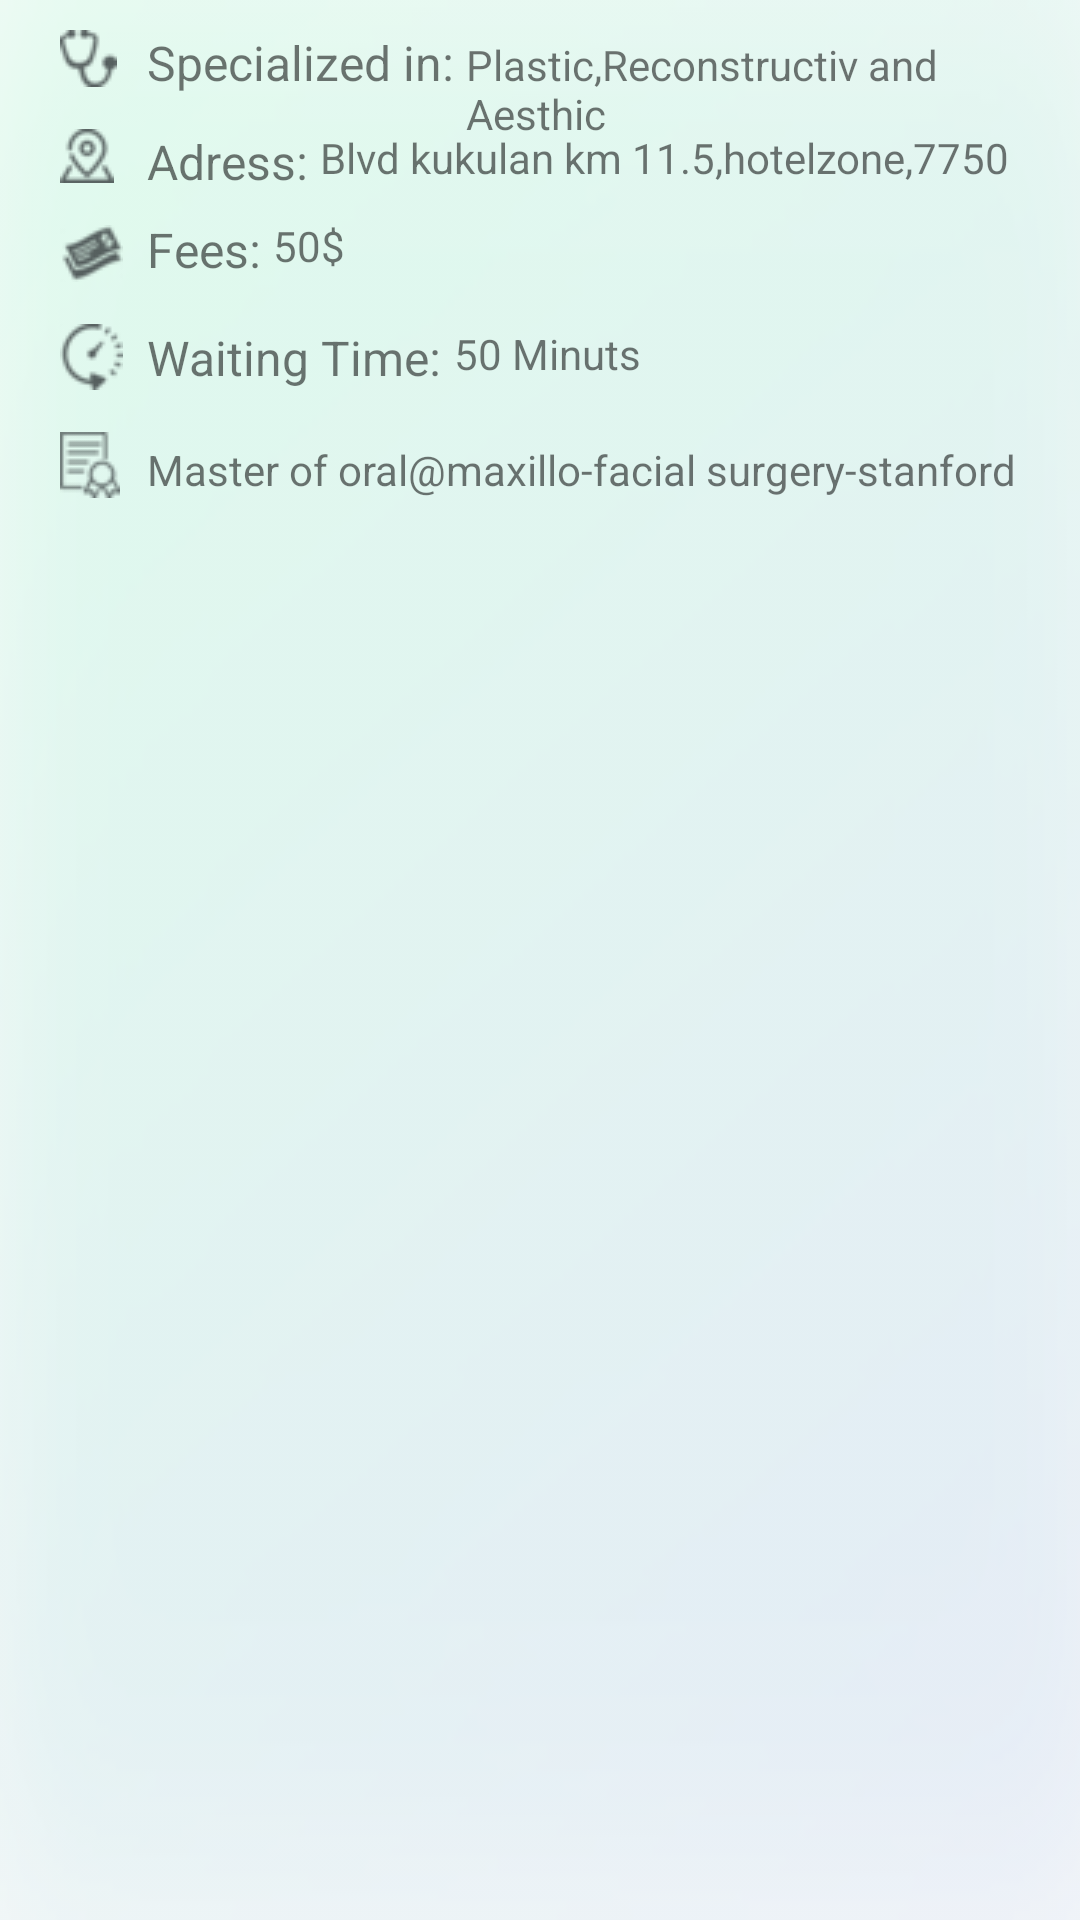

Point at icon controls on the screen. Image size 1080*1920, points as [x,y].
adrees: [87,156]
docinfo: [88,58]
